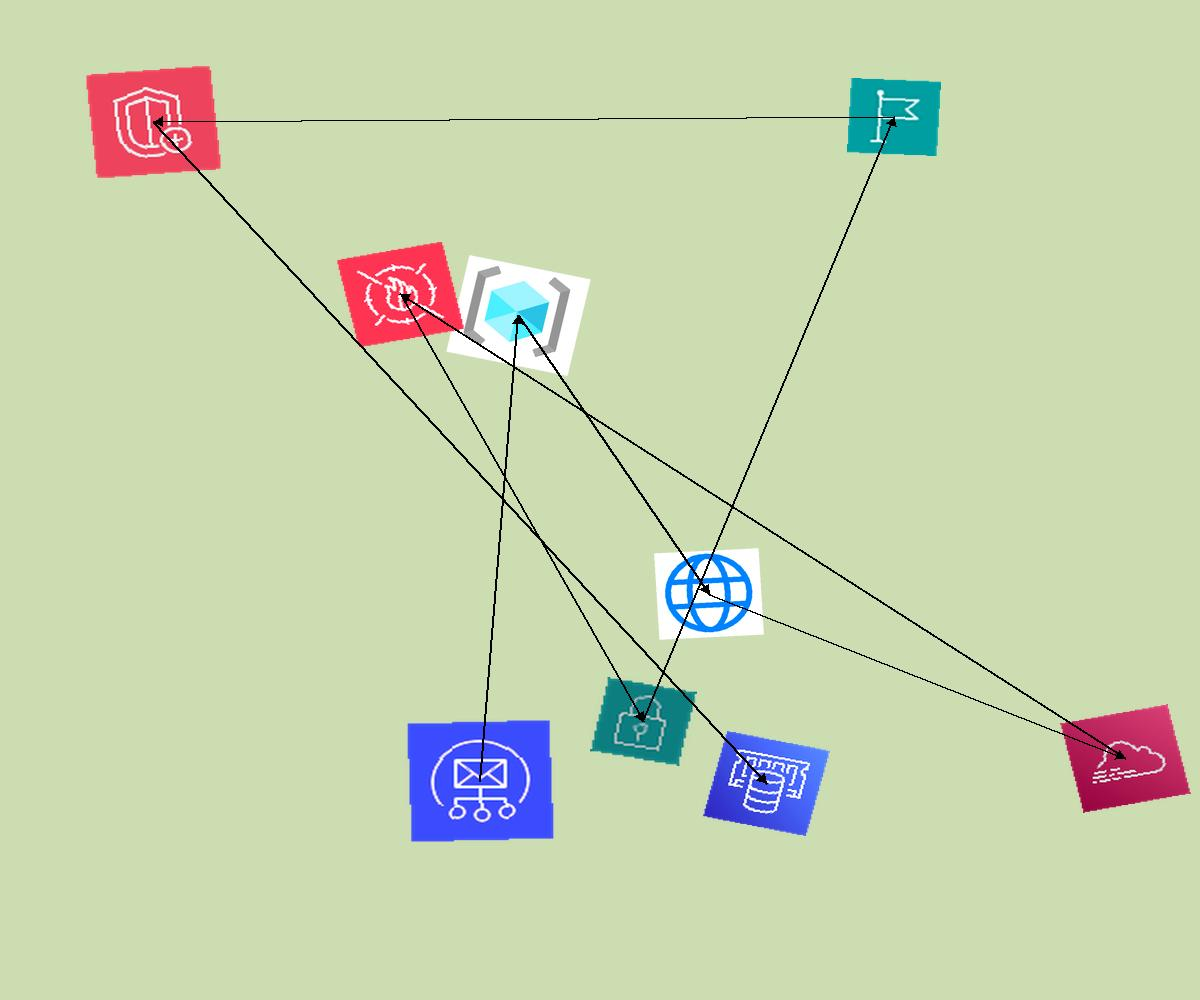AWS-CloudTrail: (1060, 704, 1191, 813)
AWS-ElastiCache: (702, 730, 831, 837)
AWS-Private-subnet: (590, 677, 697, 766)
AWS-Region: (847, 78, 941, 156)
AWS-Shield: (85, 65, 222, 179)
AWS-Simple-Email-Service: (406, 719, 555, 843)
AWS-WAF: (336, 241, 465, 348)
Azure_http: (654, 548, 764, 640)
Azure_resource_group: (446, 255, 591, 376)
